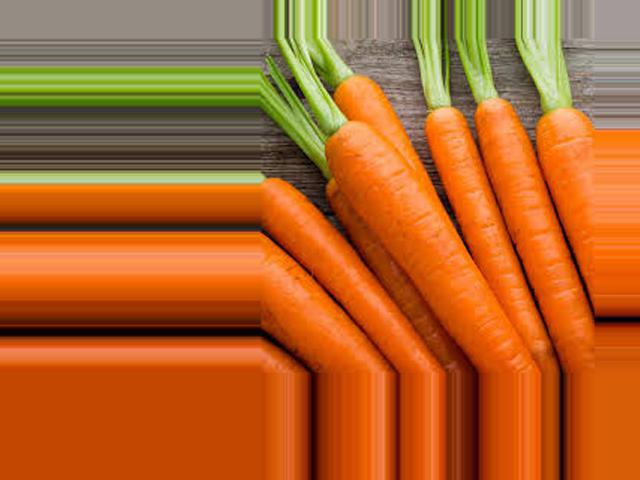carrot: (262, 176, 418, 374)
